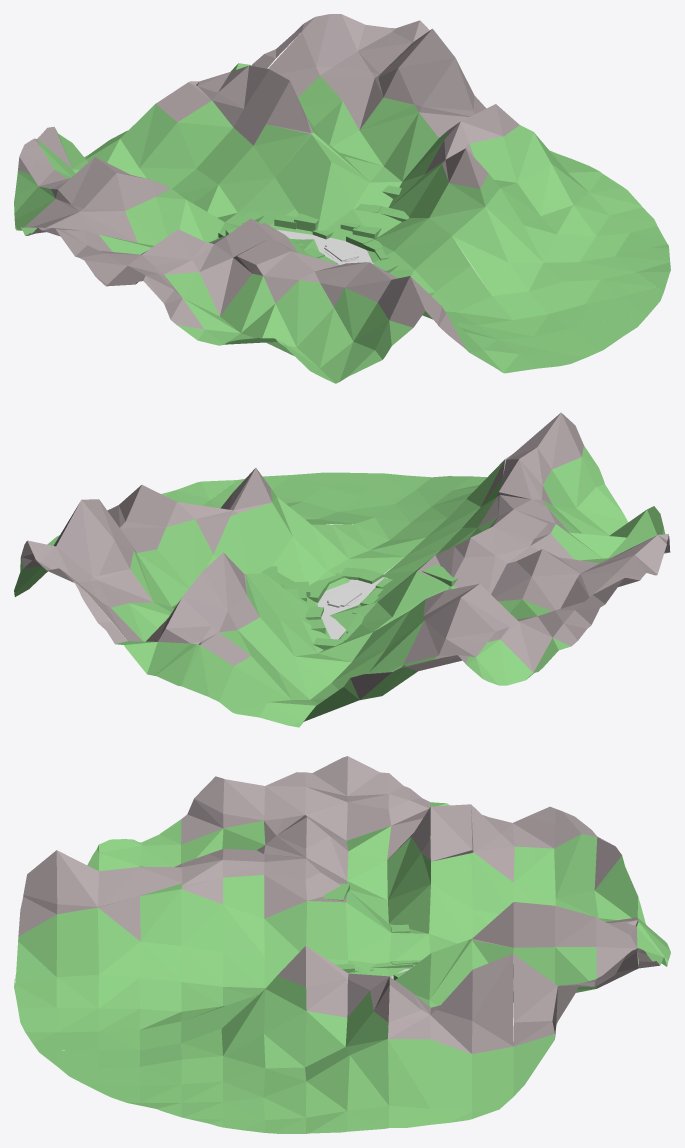
File: landscape-no-trees-reduced.fbx
3 views of the same model, one above another, from view 1: azimuth 30°, elevation 25°; view 2: azimuth 150°, elevation 25°; view 3: azimuth 270°, elevation 25° (orthographic).
Visible parts, largest first — view 1: mountain-with-church-platforms.001; view 2: mountain-with-church-platforms.001; view 3: mountain-with-church-platforms.001.
Part boxes in pixels (<box>): mountain-with-church-platforms.001: <box>14,14,670,383</box>; mountain-with-church-platforms.001: <box>14,412,670,727</box>; mountain-with-church-platforms.001: <box>14,756,670,1133</box>.
Size of the model in its own units: 473 by 104 by 473.
